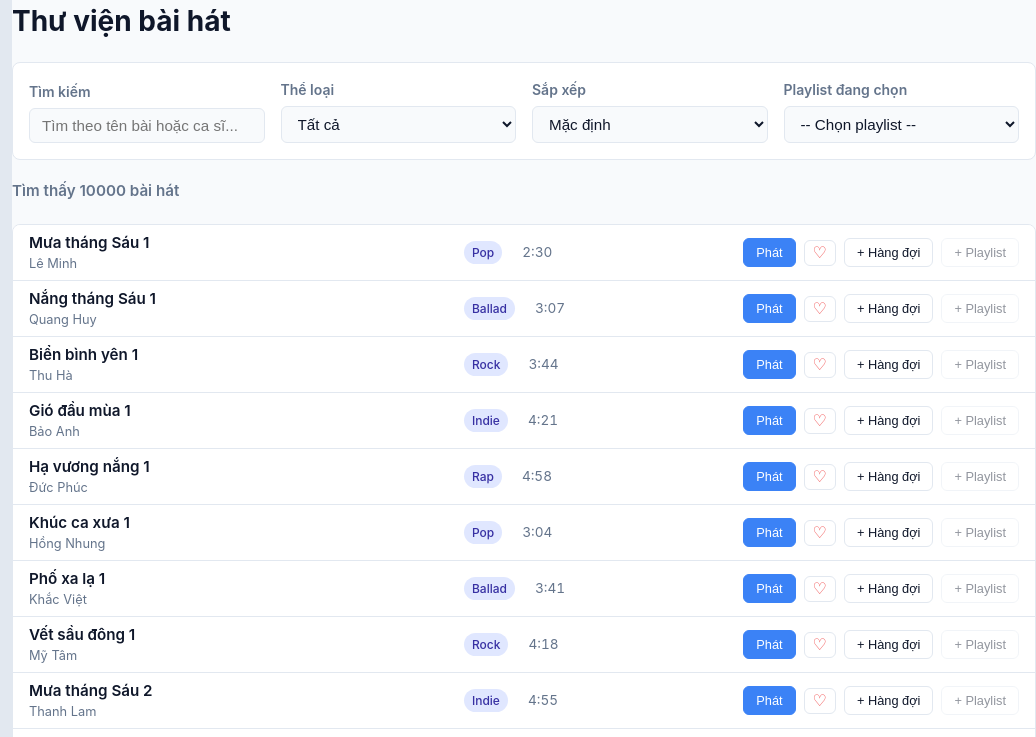
LibraryPage - Tự kiểm tra Phần 1 › gõ "mưa": trong lúc gõ danh sách chưa đổi; 300ms sau hiển thị "Tìm thấy 1250 bài hát"
The width and height of the screenshot is (1036, 737).
Type "mưa" into the field labelled "Tìm kiếm".
click(147, 125); type("mưa")  # box [29,108,264,143]
Wait 300 ms
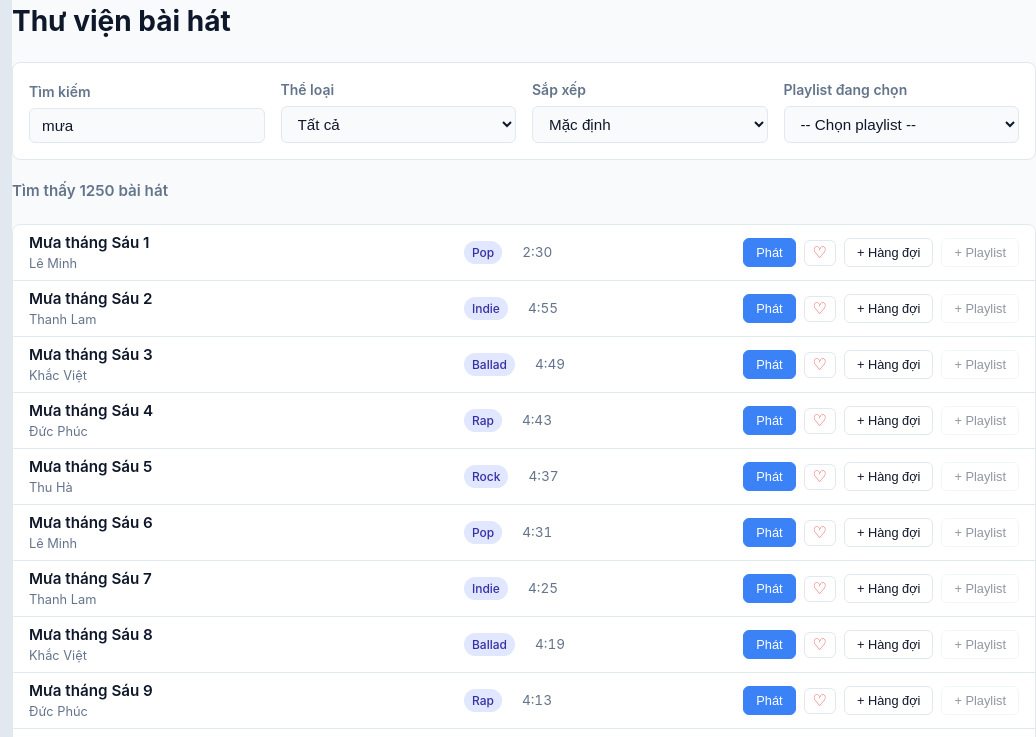
Result: the text "Tìm thấy 1250 bài hát" is shown at [12,181,168,200]
